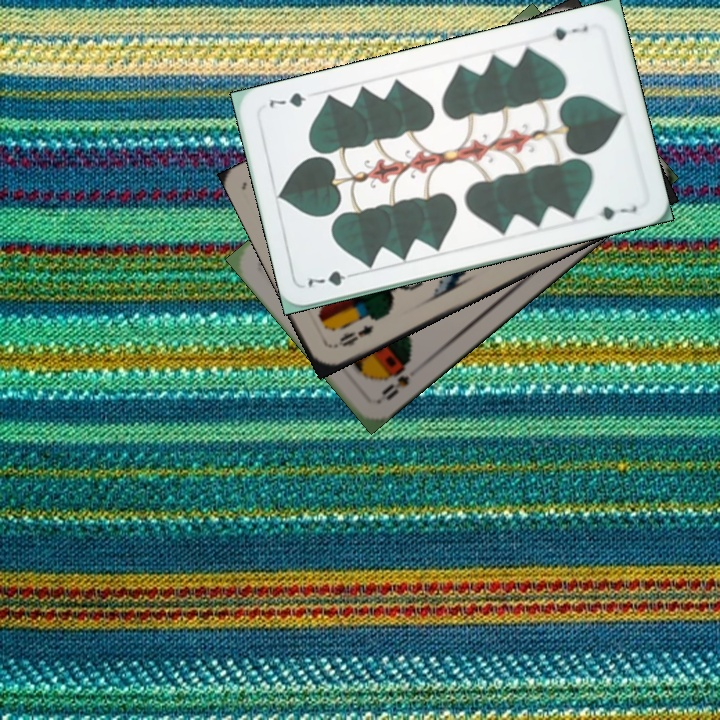EO: (331, 321, 376, 351)
G7: (303, 266, 361, 290), (548, 21, 591, 43)
SO: (375, 356, 415, 404)
